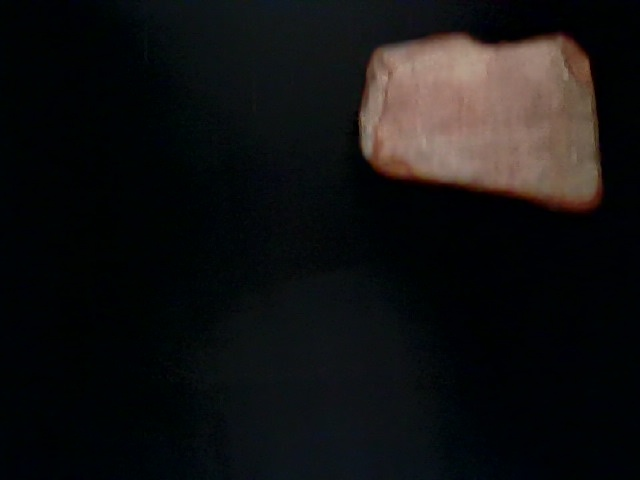KHSLJ: (274, 134, 628, 448)
